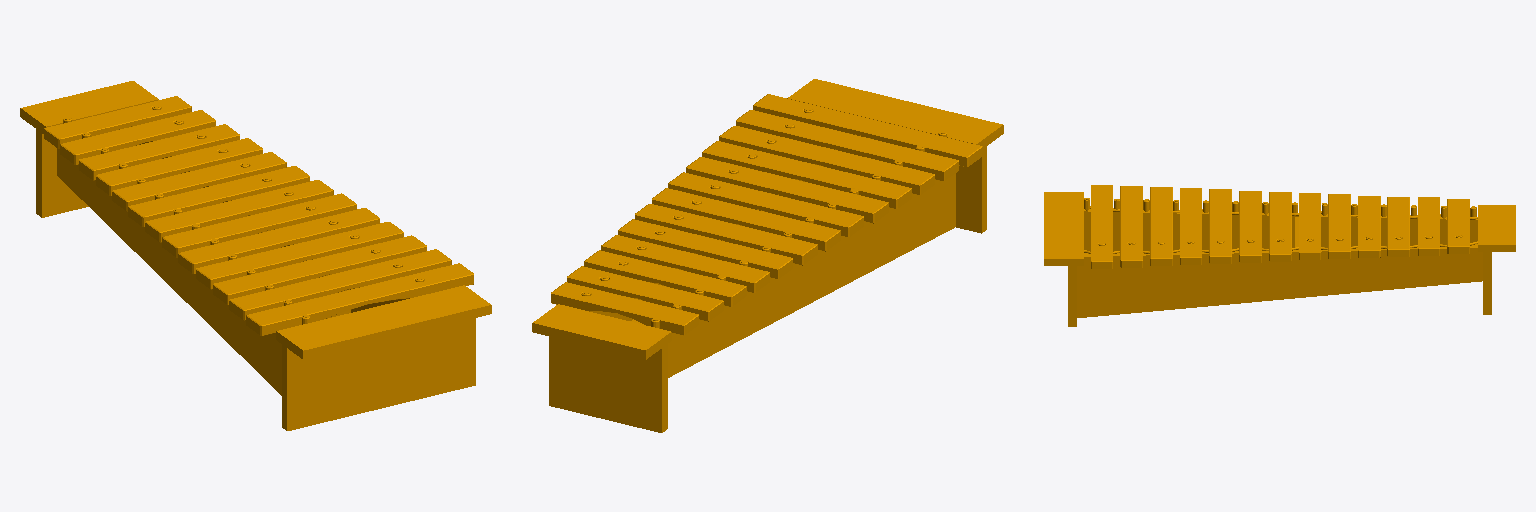
URDF robot description (xylophone):
<robot name="xylophone">
  <link name="xylophone">
    <inertial>
      <mass value="1" />
      <!-- center of mass (com) is defined w.r.t. link local coordinate system -->
      <origin xyz="0 0 0.06" /> 
      <inertia  ixx="1" ixy="0.0"  ixz="0.0"  iyy="1"  iyz="0.0"  izz="1" />
    </inertial>
    <visual>
      <!-- visual origin is defined w.r.t. link local coordinate system -->
      <origin xyz="0 0 0" rpy="0 0 0" />
      <geometry>
        <mesh filename="package://system_launch/models/mesh/new_xylophone.dae" scale="0.3 0.3 0.3" />
      </geometry>
    </visual>
    <collision>
      <!-- collision origin is defined w.r.t. link local coordinate system -->
      <origin xyz="0 0 0" rpy="0 0 0" />
      <geometry>
        <mesh filename="package://system_launch/models/mesh/new_xylophone.dae" scale="0.3 0.3 0.3" />
      </geometry>
    </collision>
  </link>
  <gazebo reference="xylophone">
    <turnGravityOff>false</turnGravityOff>
  </gazebo>
</robot>

--- Render facts (derived) ---
Views: 3 orthographic renders of the robot side by side, from view 1: azimuth 30°, elevation 25°; view 2: azimuth 150°, elevation 25°; view 3: azimuth 270°, elevation 25°.
Model xylophone with 1 links and 0 joints (none), rooted at xylophone, posed every joint at zero.
Links seen in each view (by area): view 1: xylophone; view 2: xylophone; view 3: xylophone.
Boxes of the visible links, box(x1,y1,x2,y2) form: xylophone: box(20, 81, 491, 430); xylophone: box(532, 79, 1003, 432); xylophone: box(1044, 185, 1515, 326).
Size in the robot's own frame: 0.4518 by 1.17 by 0.2012 metres.
Meshes: 1 distinct files referenced, 1 mesh visuals loaded (1 Collada DAE).